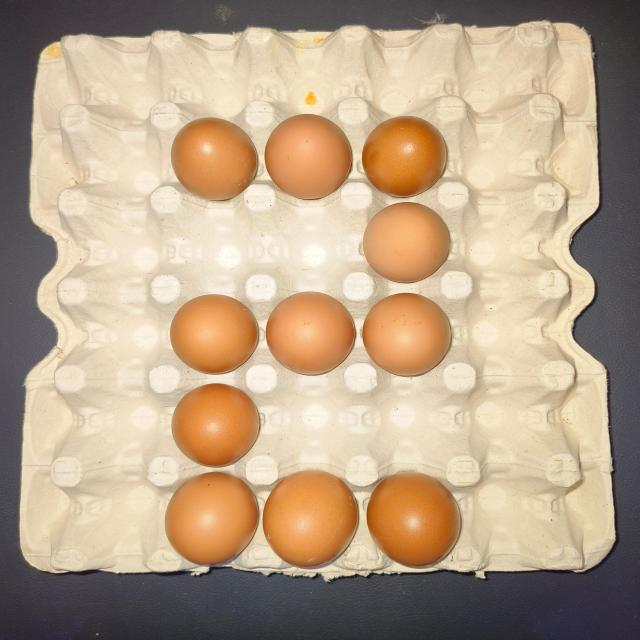Eggs: (268, 455, 361, 566), (161, 108, 263, 202), (377, 462, 462, 572), (161, 469, 256, 565), (266, 104, 352, 201), (166, 288, 258, 377), (262, 289, 356, 376), (362, 104, 446, 195), (169, 386, 268, 462), (366, 196, 450, 284), (368, 288, 450, 377)
